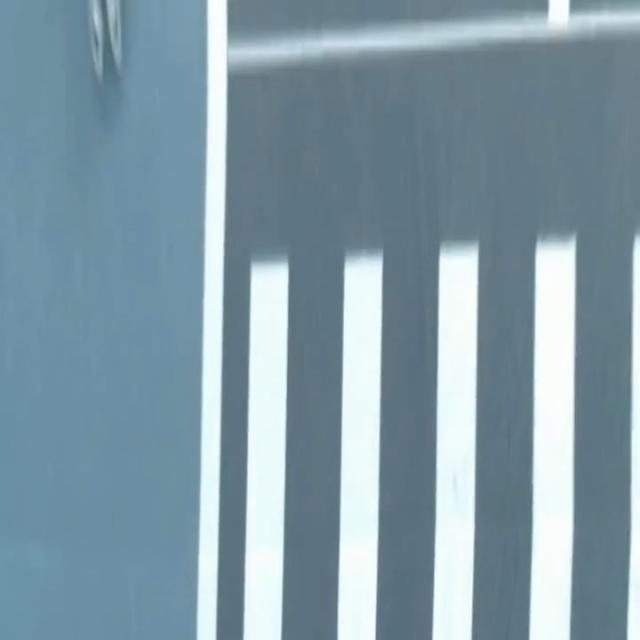center: (548, 0, 570, 23)
